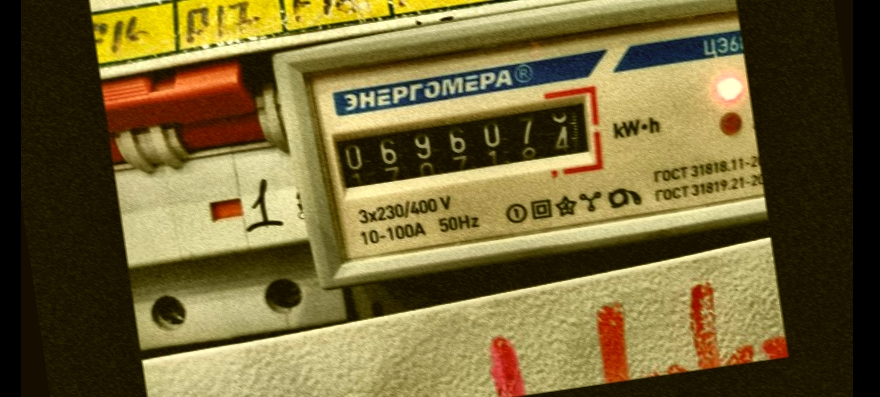0: (341, 139, 365, 172), (480, 116, 504, 148)
4: (549, 122, 572, 153)
6: (375, 133, 401, 166), (446, 123, 469, 153)
7: (515, 112, 536, 144)
9: (412, 129, 434, 161)
screen: (314, 78, 609, 208)
